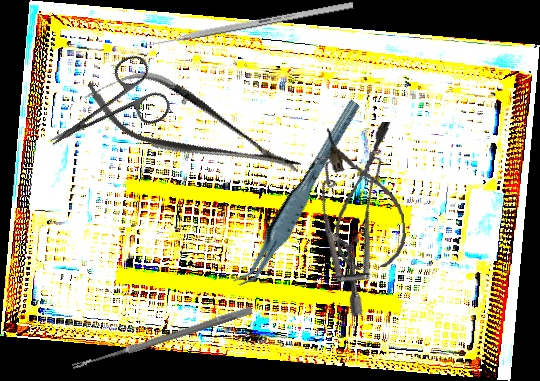Cannula: (325, 121, 409, 272)
Iris Scissors: (32, 49, 175, 173)
Micro Scissor: (74, 49, 313, 205)
Pusher: (133, 0, 354, 52)
Speculum: (273, 127, 448, 320)
Surgical Spoon: (71, 305, 253, 372)
Tissue Forceps: (217, 98, 381, 293)
